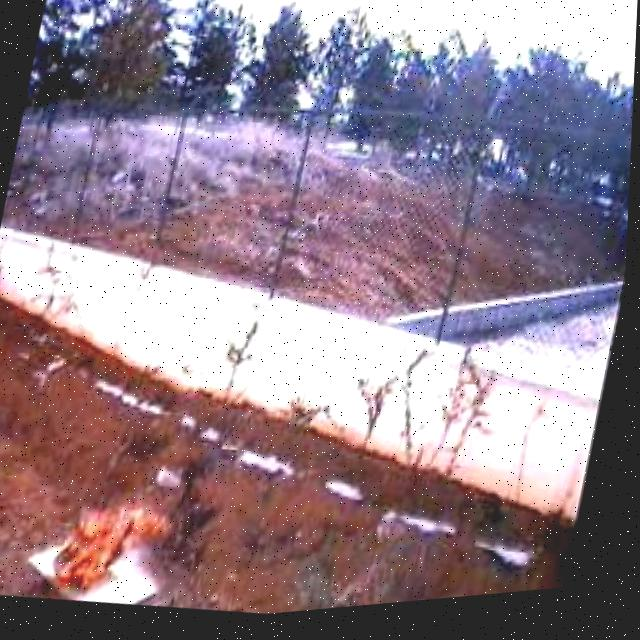Fire: (51, 483, 187, 618)
